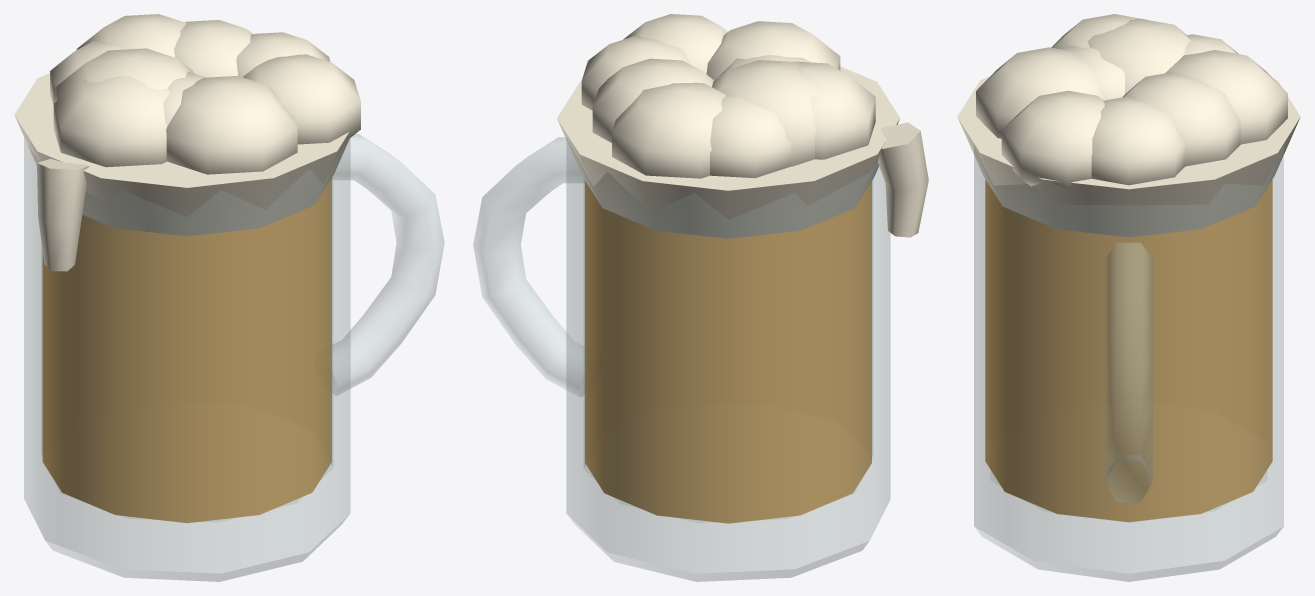
Rendered from beer_mug_full.glb.
3 renders of one model, left to right at view 1: azimuth 30°, elevation 25°; view 2: azimuth 150°, elevation 25°; view 3: azimuth 270°, elevation 25°, orthographic.
Parts seen in each view (by area): view 1: BeerMugFull; view 2: BeerMugFull; view 3: BeerMugFull.
Part boxes in pixels (x1,y1,x2,y2): BeerMugFull: [14, 14, 444, 581]; BeerMugFull: [473, 14, 928, 581]; BeerMugFull: [957, 14, 1300, 581].
Size of the model in its own units: 0.2222 by 0.2355 by 0.158.
